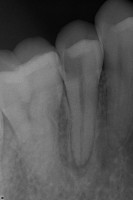Furcation Involvement: (68, 147, 94, 176)
